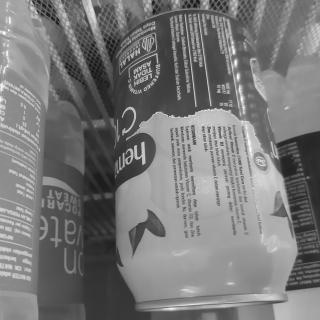alumunium_can: (112, 5, 303, 320)
